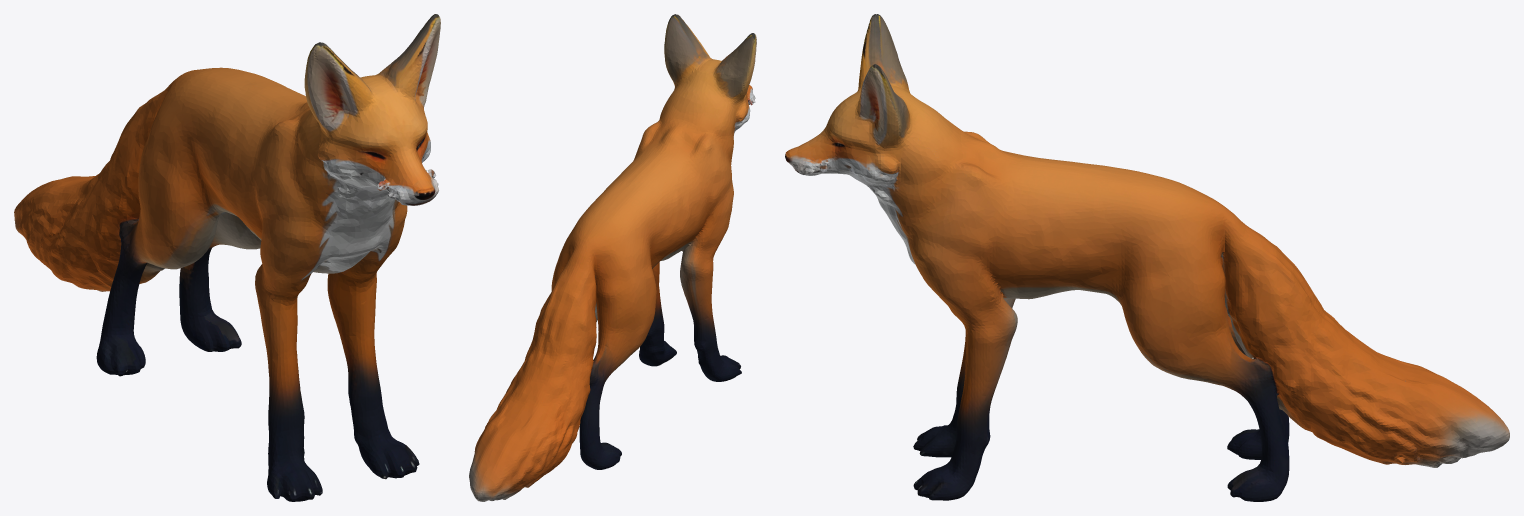
Rendered from quadruped_fox.glb.
The picture shows the model from 3 angles, left to right: view 1: azimuth 30°, elevation 25°; view 2: azimuth 150°, elevation 25°; view 3: azimuth 270°, elevation 25°; orthographic projection. The views are drawn at different scales.
Visible parts, largest first — view 1: textured_mesh.obj; view 2: textured_mesh.obj; view 3: textured_mesh.obj.
Part boxes in pixels (x1,y1,x2,y2): textured_mesh.obj: [14, 14, 440, 501]; textured_mesh.obj: [469, 14, 756, 501]; textured_mesh.obj: [785, 14, 1509, 501].
Bounding box in the file's own units: 0.4112 × 1.32 × 1.99.
Materials: 1 (1 with a texture image).
